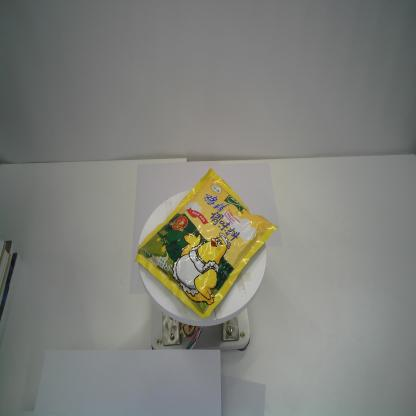Seasoner: (134, 166, 280, 319)
